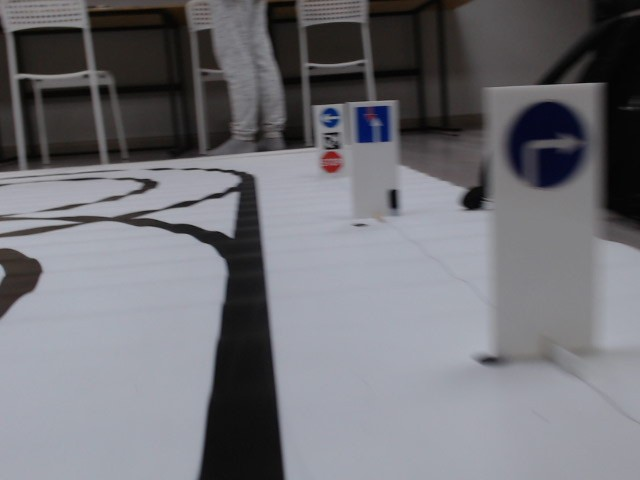Right: (501, 100, 594, 184)
Stop: (320, 152, 346, 173)
priority_movement: (353, 104, 393, 144)
